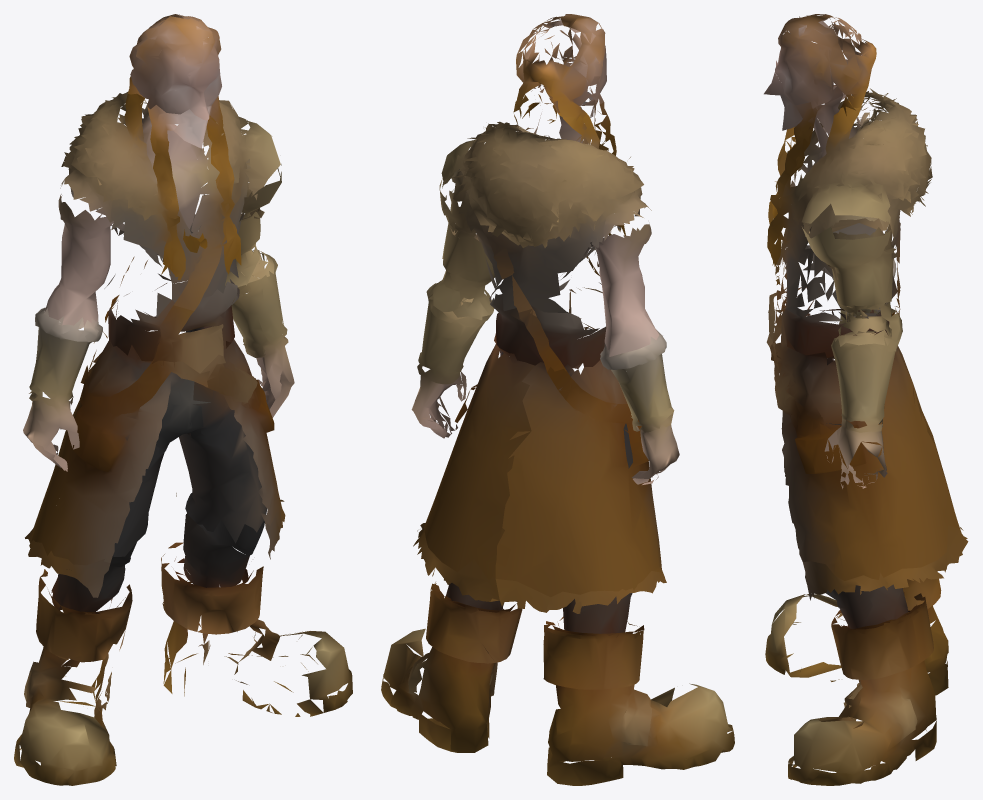
Rendered from rook.glb.
3 renders of one model, left to right at view 1: azimuth 30°, elevation 25°; view 2: azimuth 150°, elevation 25°; view 3: azimuth 270°, elevation 25°, orthographic. The views are drawn at different scales.
Visible parts, largest first — view 1: torso, thighL, shinL, shinR, thighR, head, hips, foreL, armL, foreR, armR; view 2: thighL, torso, shinL, shinR, thighR, head, foreL, armL, hips, foreR, armR; view 3: thighR, shinR, torso, head, armR, foreR, shinL, hips, thighL, armL.
Boxes of the visible parts, <box> form: torso: <box>60,92,280,317</box>; thighL: <box>31,320,210,565</box>; shinL: <box>14,528,136,785</box>; shinR: <box>161,493,352,716</box>; thighR: <box>154,316,281,543</box>; head: <box>128,14,221,120</box>; hips: <box>104,260,239,373</box>; foreL: <box>23,307,102,471</box>; armL: <box>44,194,207,326</box>; foreR: <box>231,253,294,417</box>; armR: <box>157,164,281,286</box>; thighL: <box>495,322,661,597</box>; torso: <box>441,88,651,316</box>; shinL: <box>490,564,734,785</box>; shinR: <box>381,523,522,752</box>; thighR: <box>424,305,588,580</box>; head: <box>516,14,606,120</box>; foreL: <box>600,329,679,484</box>; armL: <box>559,224,659,356</box>; hips: <box>489,266,606,371</box>; foreR: <box>411,283,492,438</box>; armR: <box>428,178,576,320</box>; thighR: <box>766,334,958,580</box>; shinR: <box>788,523,968,785</box>; torso: <box>764,86,932,309</box>; head: <box>764,14,876,115</box>; armR: <box>802,224,902,346</box>; foreR: <box>824,338,899,488</box>; shinL: <box>765,527,967,695</box>; hips: <box>768,265,900,357</box>; thighL: <box>771,300,953,507</box>; armL: <box>772,204,882,277</box>.
Bounding box in the file's own units: 0.4859 × 0.9991 × 0.2666.
